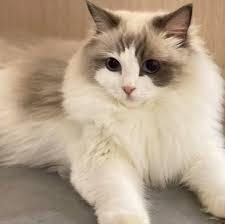ragdoll: (77, 1, 192, 120)
